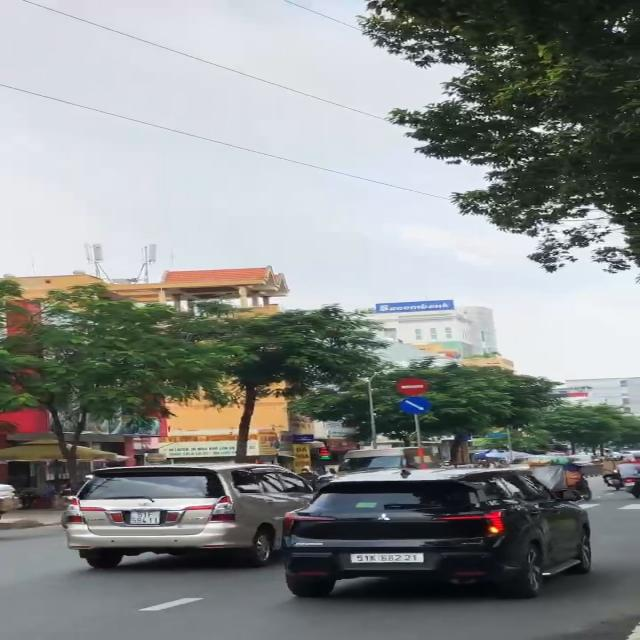Bien bao cam di nguoc chieu: (394, 376, 430, 396)
Bien bao huong phai di vong chuong ngai vat: (393, 396, 440, 417)
